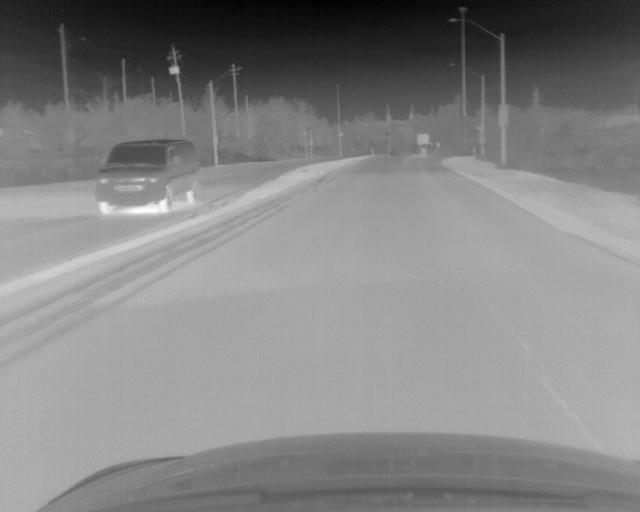car: (95, 139, 200, 214)
